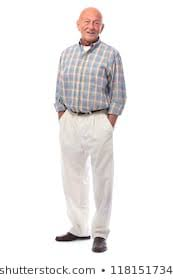standing: (48, 7, 131, 257)
